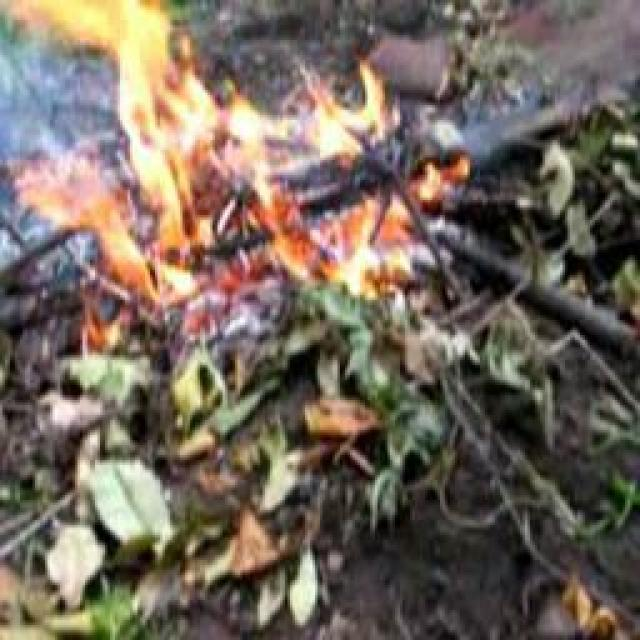Fire: (18, 1, 280, 328), (74, 61, 388, 312)
